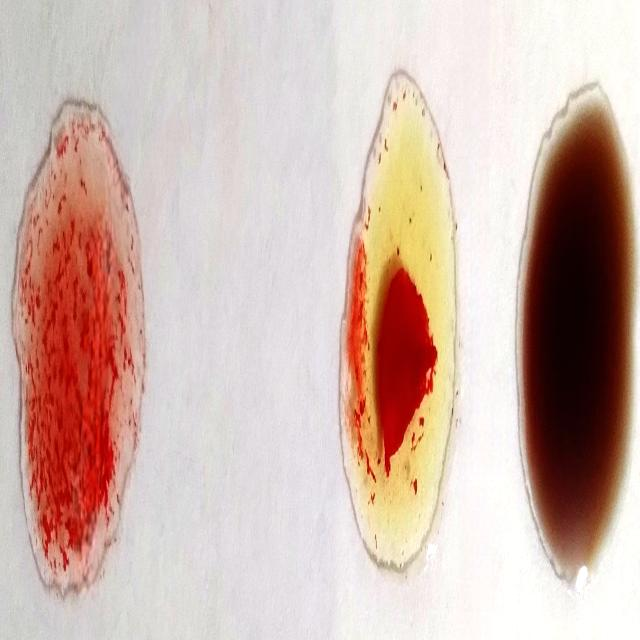B: (351, 51, 456, 576)
D: (18, 99, 136, 580)
